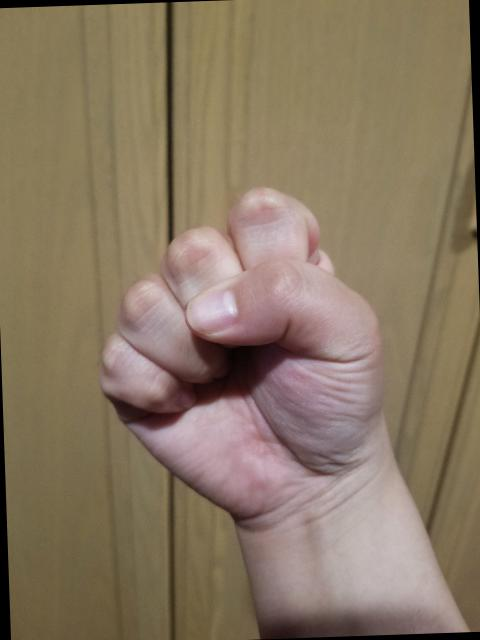S: (83, 178, 405, 526)
